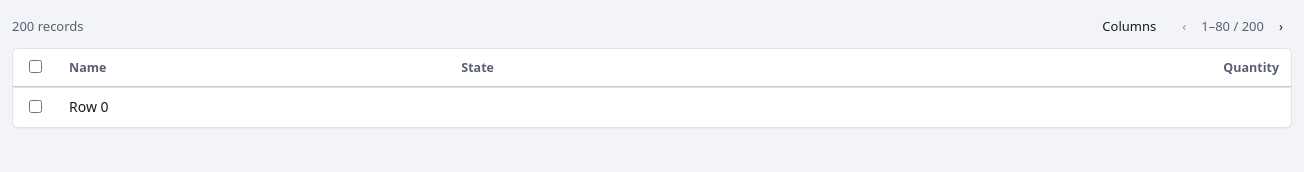
Test: list view extras › paginates large result sets
Click the button named "Next page" at (1281, 26), box [1270, 12, 1292, 40]
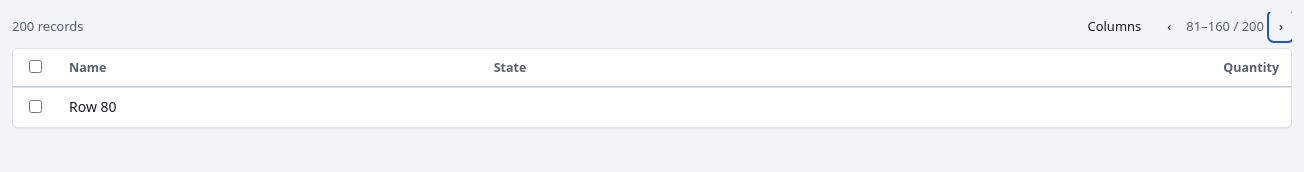
Expected: the text "81–160 / 200" is shown, [1186, 17, 1264, 35]
